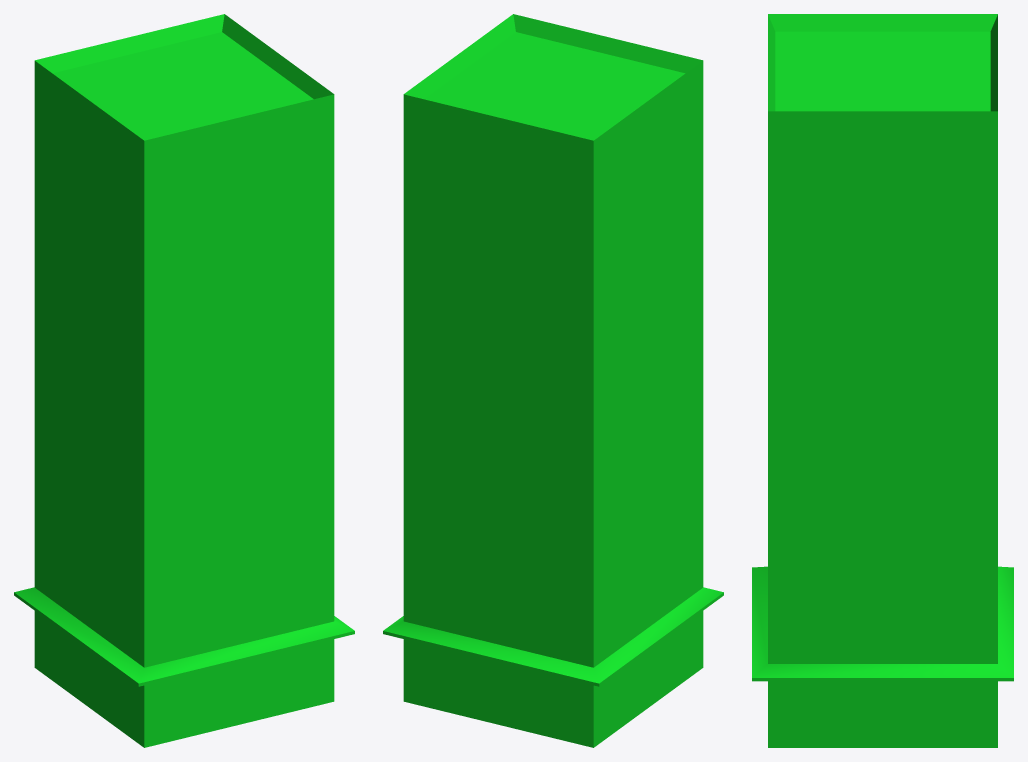
Rendered from cube.127_lev1_lev3.glb.
The picture shows the model from 3 angles, left to right: view 1: azimuth 30°, elevation 25°; view 2: azimuth 150°, elevation 25°; view 3: azimuth 270°, elevation 25°; orthographic projection. The views are drawn at different scales.
Visible parts, largest first — view 1: cube.127_lev1_lev3; view 2: cube.127_lev1_lev3; view 3: cube.127_lev1_lev3.
Part boxes in pixels (bbox=[...]): cube.127_lev1_lev3: bbox=[14, 14, 354, 747]; cube.127_lev1_lev3: bbox=[383, 14, 723, 747]; cube.127_lev1_lev3: bbox=[752, 14, 1013, 747].
Size of the model in its own units: 4.07 by 10.92 by 4.07.
